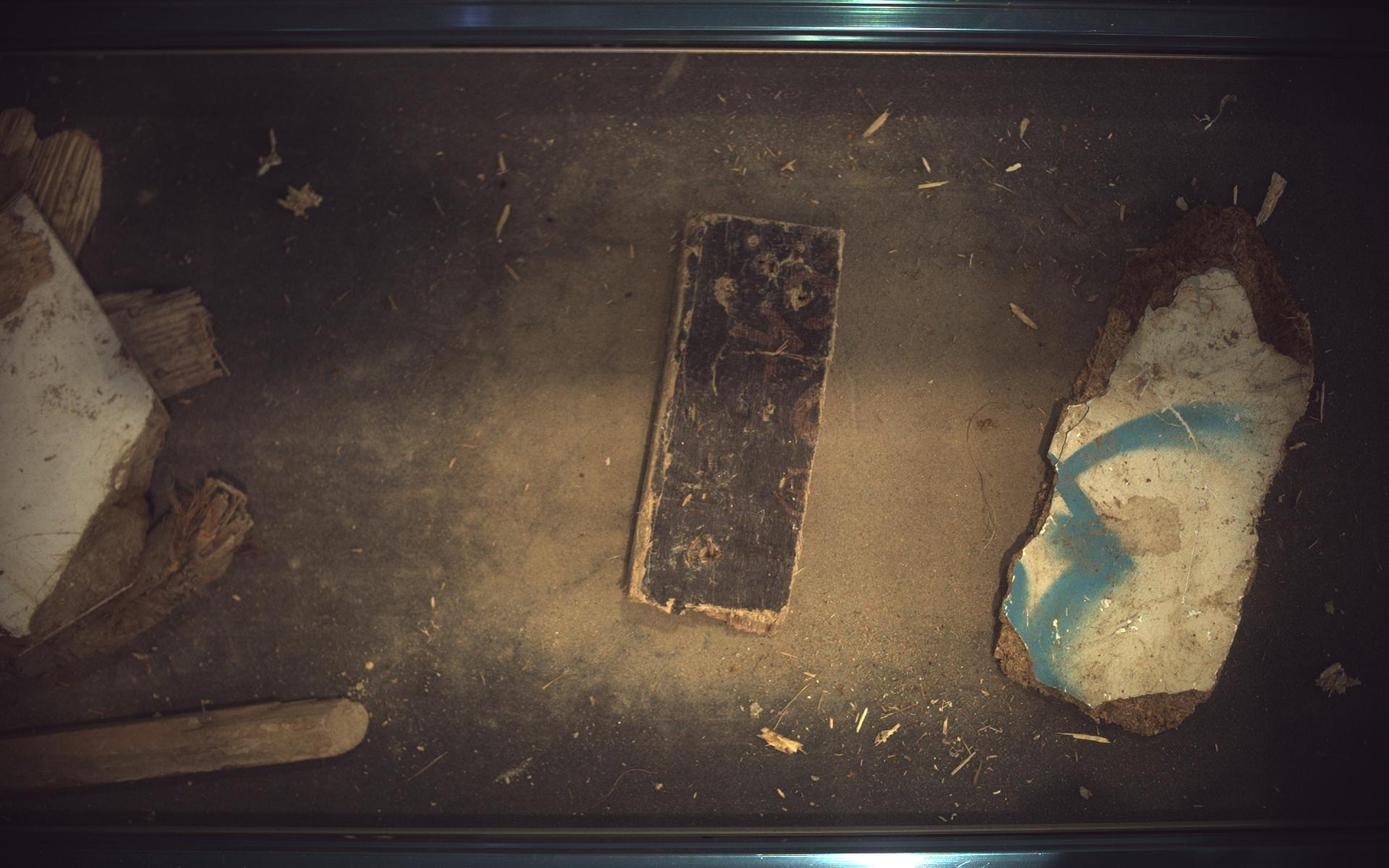wood: (997, 205, 1317, 736), (629, 212, 846, 634), (1, 193, 168, 647)
